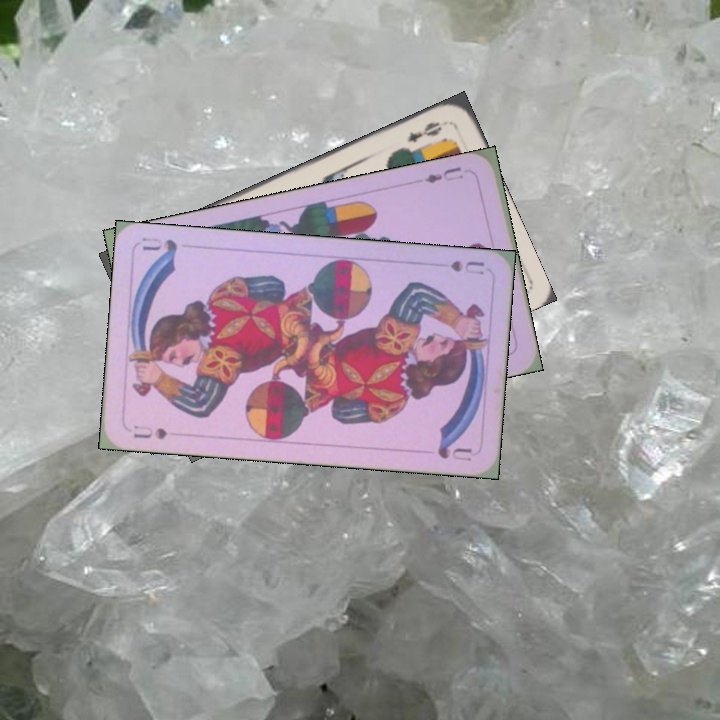EO: (402, 117, 445, 145)
EU: (420, 162, 466, 187)
SU: (446, 256, 487, 278), (129, 421, 170, 442)
